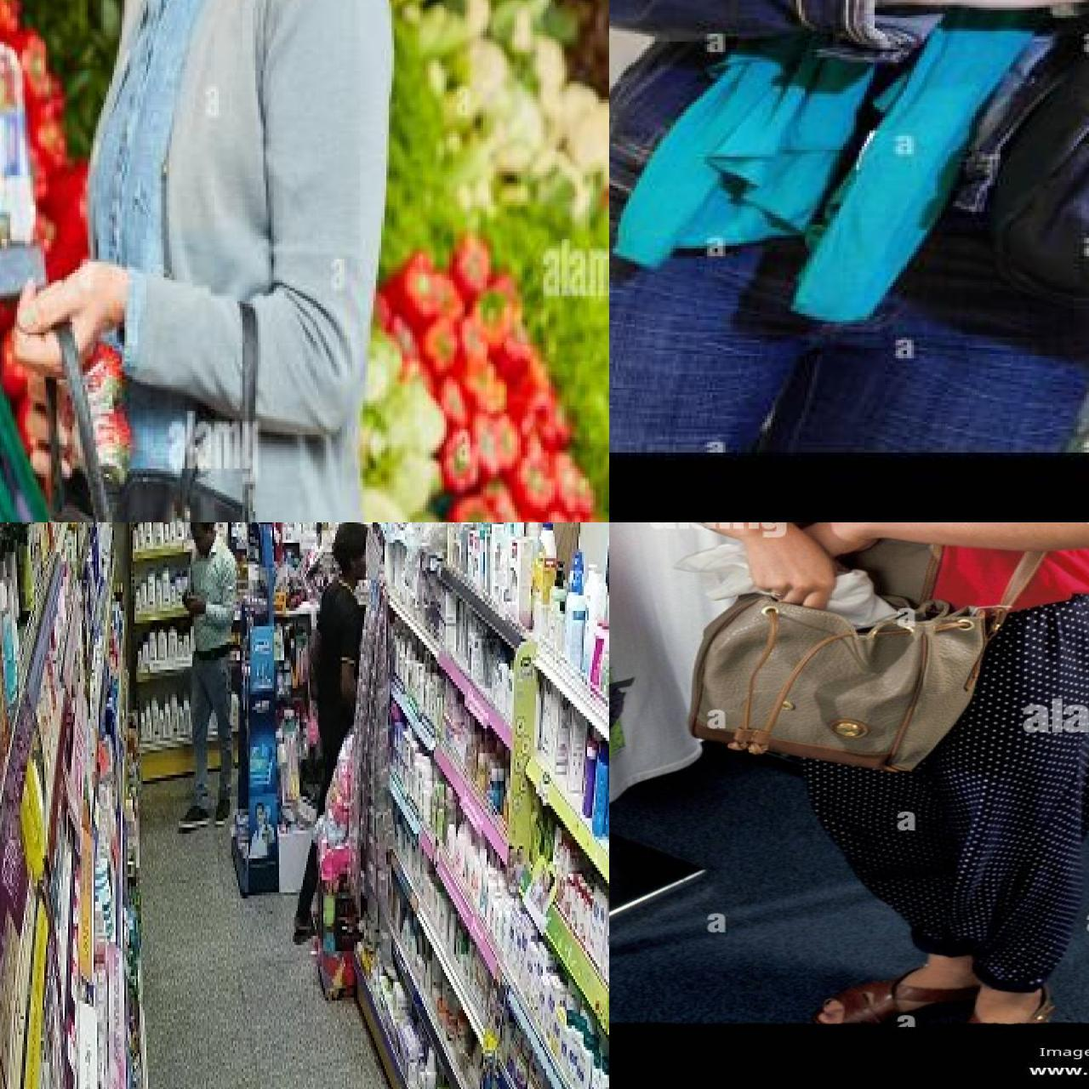shoplifting: (627, 516, 1035, 827)
